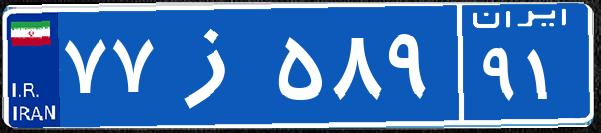1: (525, 38, 570, 115)
5: (273, 28, 330, 110)
7: (57, 26, 110, 107), (110, 28, 158, 105)
8: (330, 28, 385, 110)
9: (385, 28, 445, 110), (475, 38, 525, 113)
ز: (158, 15, 273, 115)
